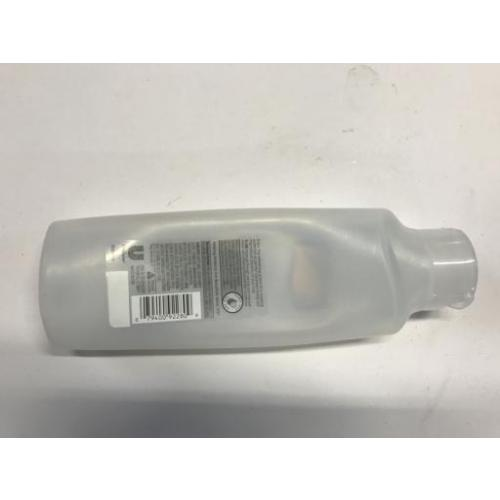plastic: (41, 208, 476, 349)
